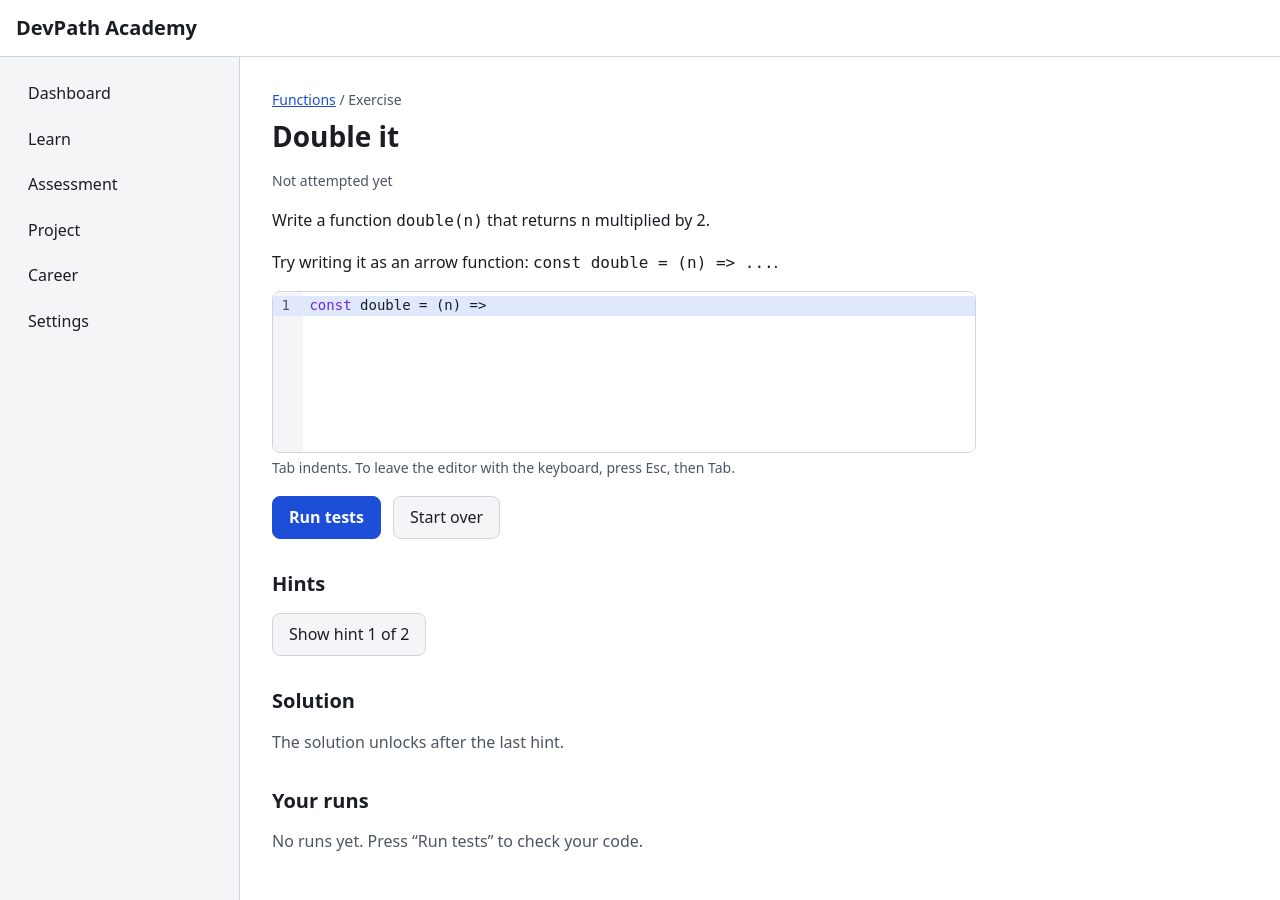
Test: exercise page (/exercises/:exerciseId) › explains a code error
The width and height of the screenshot is (1280, 900).
Expected: the field named "Your code" is shown, [303,296,975,316]
Click the button "Run tests": click(326, 517) [272,496,381,539]
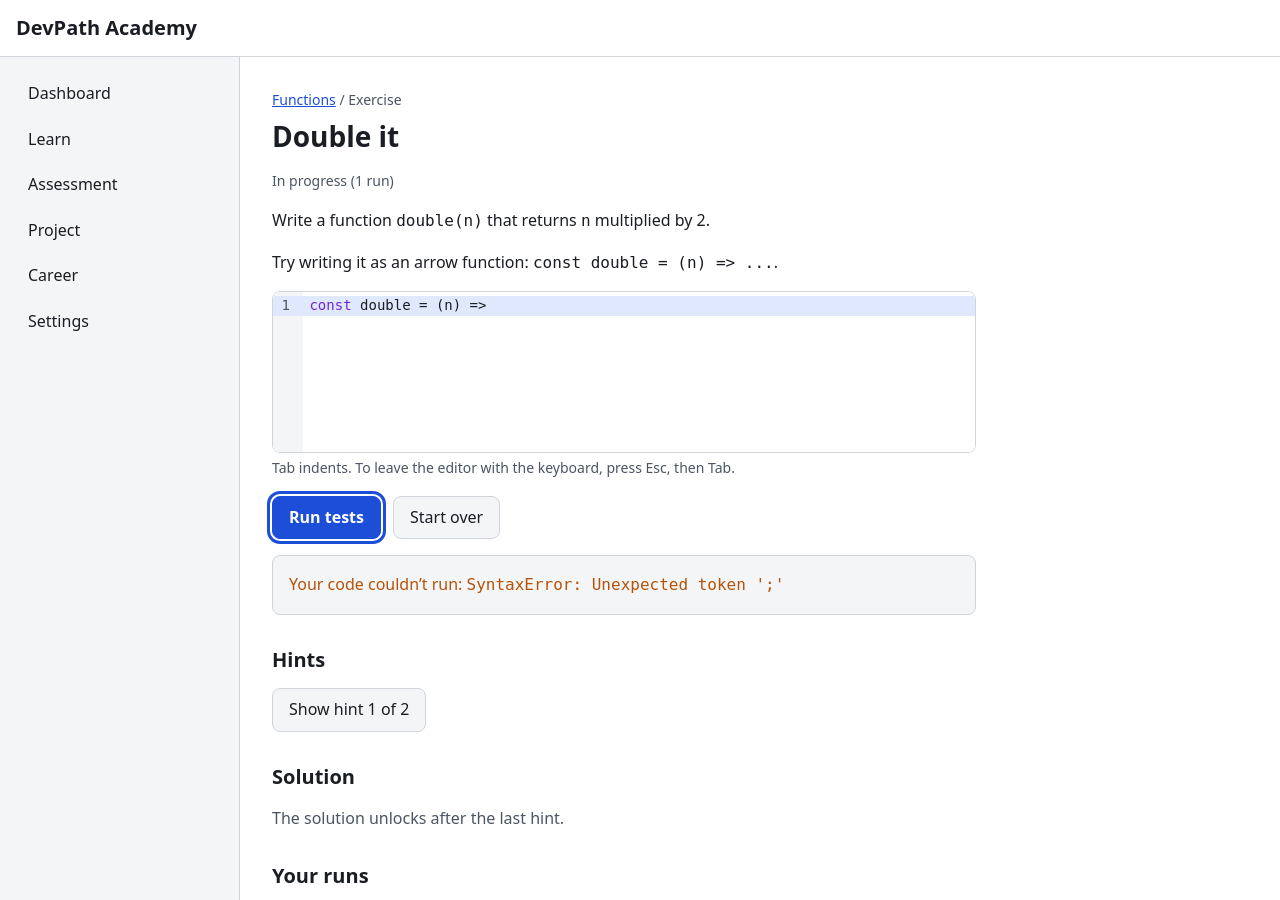
Now the text "Your code couldn’t run" shows "SyntaxError", box [466,575,784,594]
